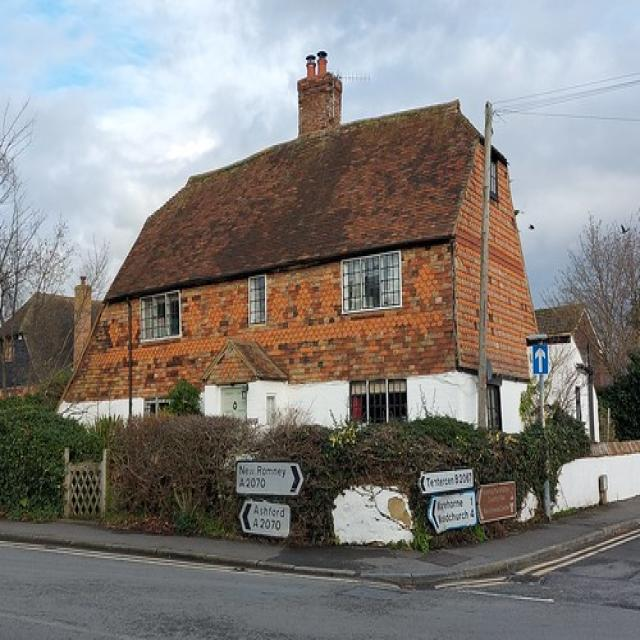Normal_building: (53, 59, 540, 550)
